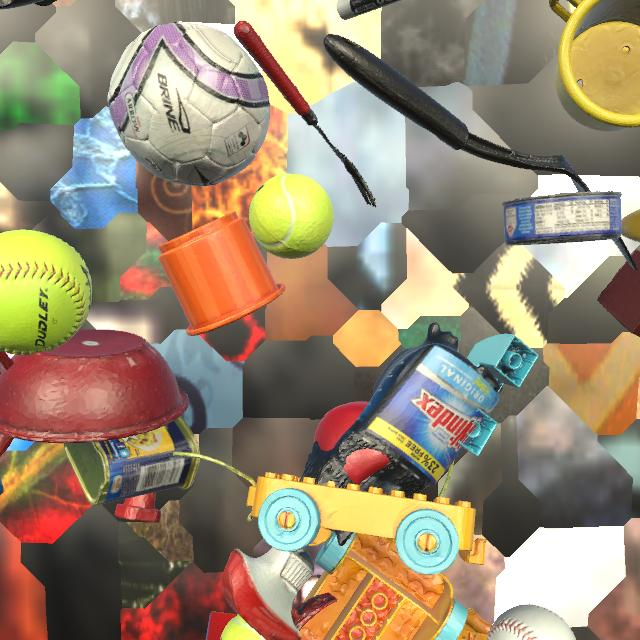ycb_007_tuna_fish_can: (502, 191, 622, 245)
ycb_010_potted_meat_can: (63, 416, 200, 506)
ycb_011_banana: (621, 209, 640, 242)
ycb_013_apple: (314, 401, 390, 484)
